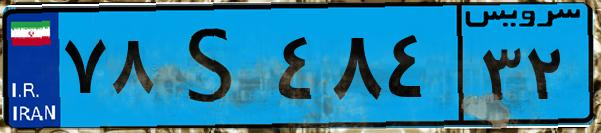2: (525, 38, 570, 115)
3: (475, 38, 525, 113)
4: (270, 28, 330, 110), (385, 28, 445, 110)
7: (57, 26, 110, 100)
8: (330, 28, 385, 110), (110, 28, 158, 98)
S: (158, 12, 270, 120)
